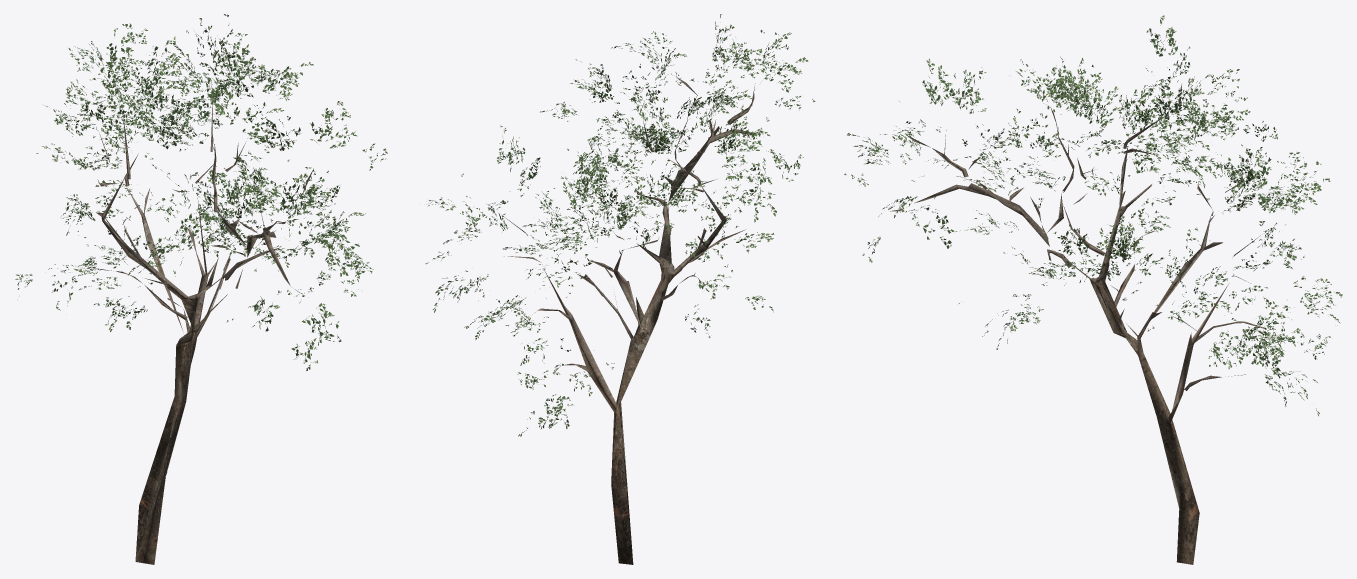
Rendered from tree_small_02.glb.
The picture shows the model from 3 angles, left to right: view 1: azimuth 30°, elevation 25°; view 2: azimuth 150°, elevation 25°; view 3: azimuth 270°, elevation 25°; orthographic projection. The views are drawn at different scales.
Parts seen in each view (by area): view 1: tree_small_02_LOD0; view 2: tree_small_02_LOD0; view 3: tree_small_02_LOD0.
Part boxes in pixels (bbox=[...]): tree_small_02_LOD0: bbox=[15, 14, 387, 564]; tree_small_02_LOD0: bbox=[425, 14, 815, 564]; tree_small_02_LOD0: bbox=[844, 15, 1342, 564].
Size of the model in its own units: 2.86 by 4.54 by 4.04.
Materials: 3 (3 with a texture image).
